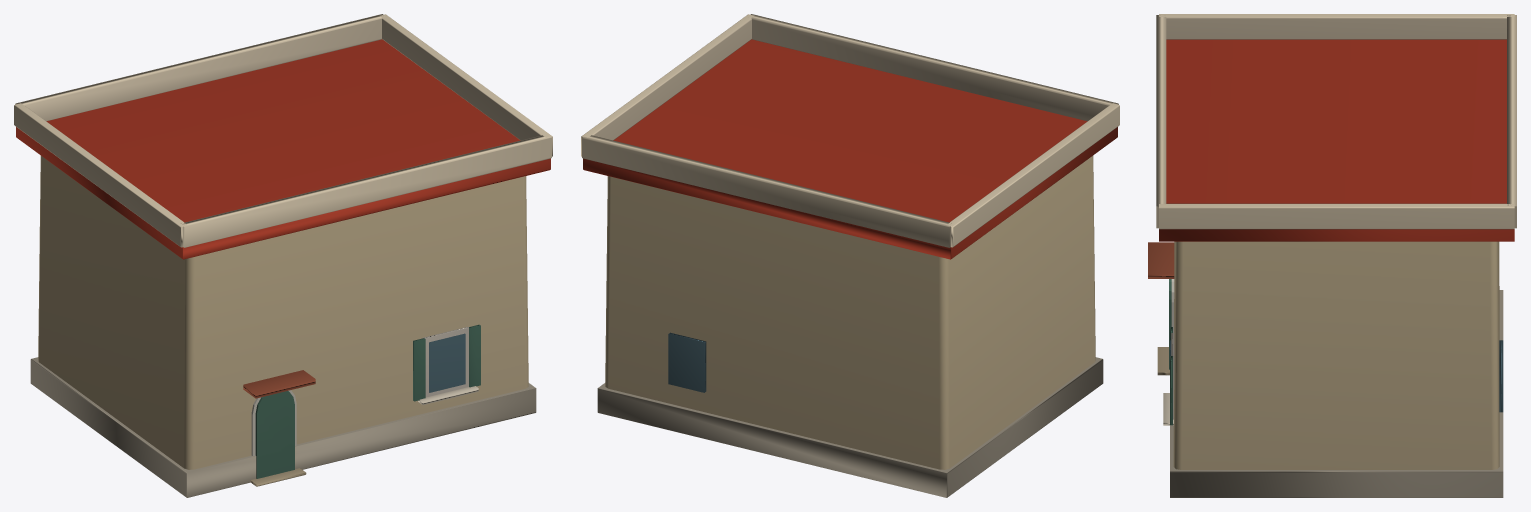
The model's file is house_00.glb.
The picture shows the model from 3 angles, left to right: view 1: azimuth 30°, elevation 25°; view 2: azimuth 150°, elevation 25°; view 3: azimuth 270°, elevation 25°; orthographic projection. The views are drawn at different scales.
Visible parts, largest first — view 1: house_00; view 2: house_00; view 3: house_00.
Part boxes in pixels (x1,y1,x2,y2): house_00: (14,14,552,497); house_00: (581,14,1119,497); house_00: (1148,14,1516,497).
Bounding box in the file's own units: 9.32 × 6.7 × 7.49.
